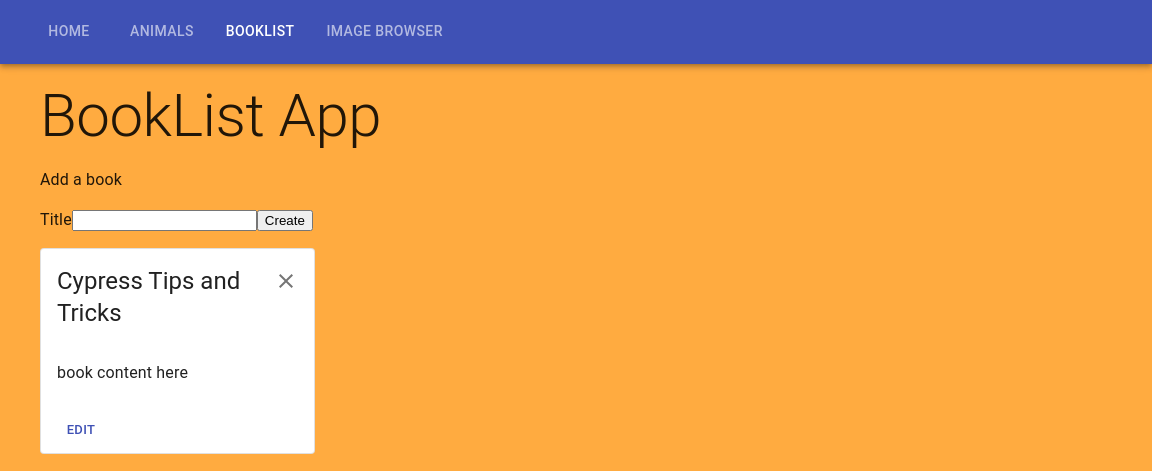
booklist app › should verify the Edit book UI, click Cancel
The image size is (1152, 471).
Expected: the heading "BookList App" is shown, x1=40 y1=80 x2=381 y2=151
Expected: the element with test id "card-1" shows "Cypress Tips and Tricks", x1=40 y1=248 x2=315 y2=454
Click the button "Edit" at (81,431), box x1=49 y1=415 x2=113 y2=446
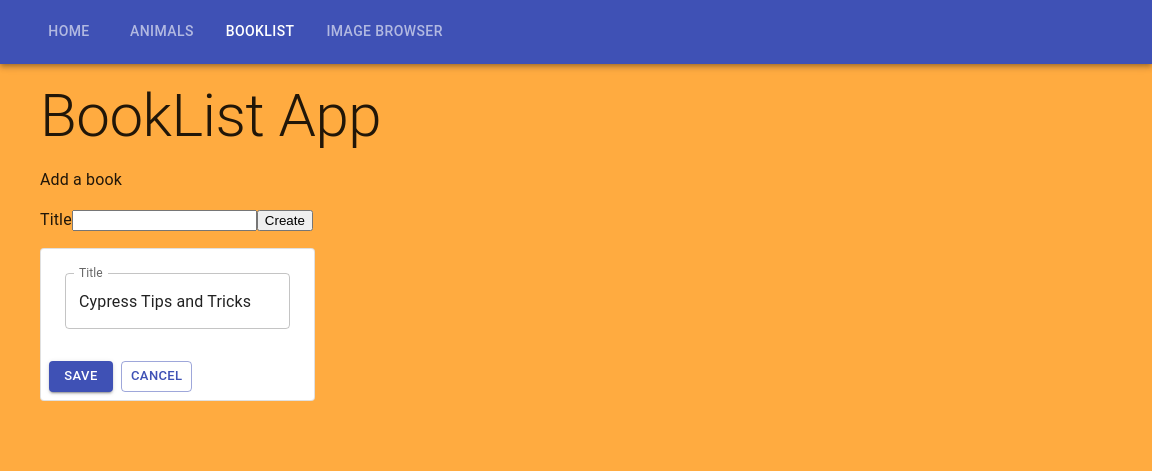
Result: the 2nd field labelled "Title" holds "Cypress Tips and Tricks"
Replace the text in the 2nd field labelled "Title" with "Another Tale" at (178,301), box x1=65 y1=273 x2=290 y2=329
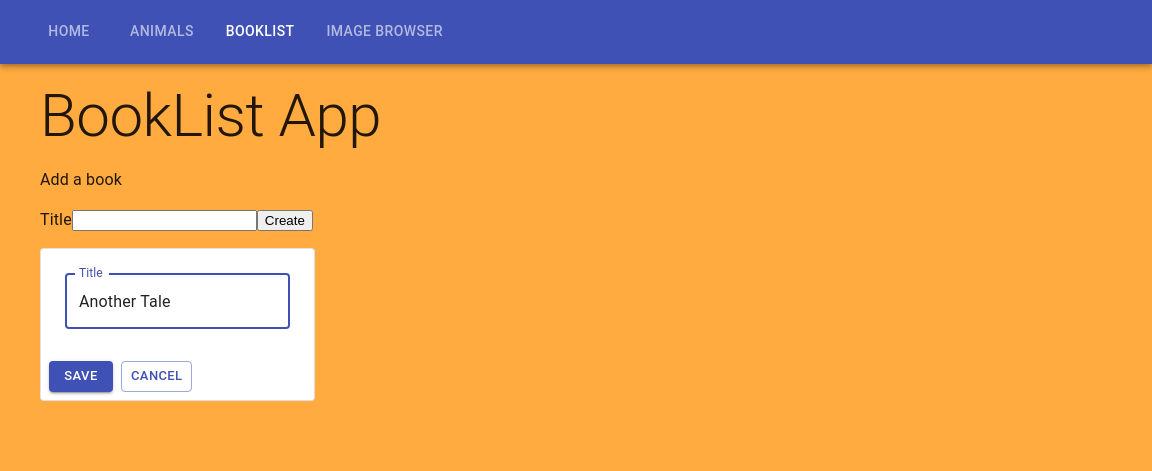
Click the button "Cancel" at (157,377), box x1=121 y1=361 x2=193 y2=392
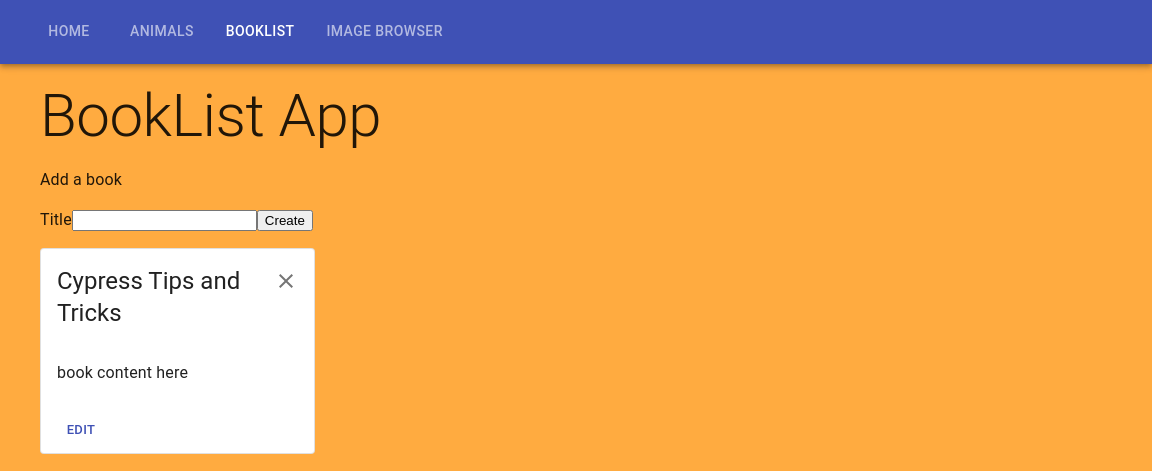
Expected: the element with test id "card-1" does not show "Another Tale"
Result: the element with test id "edit-card-1" is gone
Result: the element with test id "card-1" shows "Cypress Tips and Tricks" at x1=40 y1=248 x2=315 y2=454
